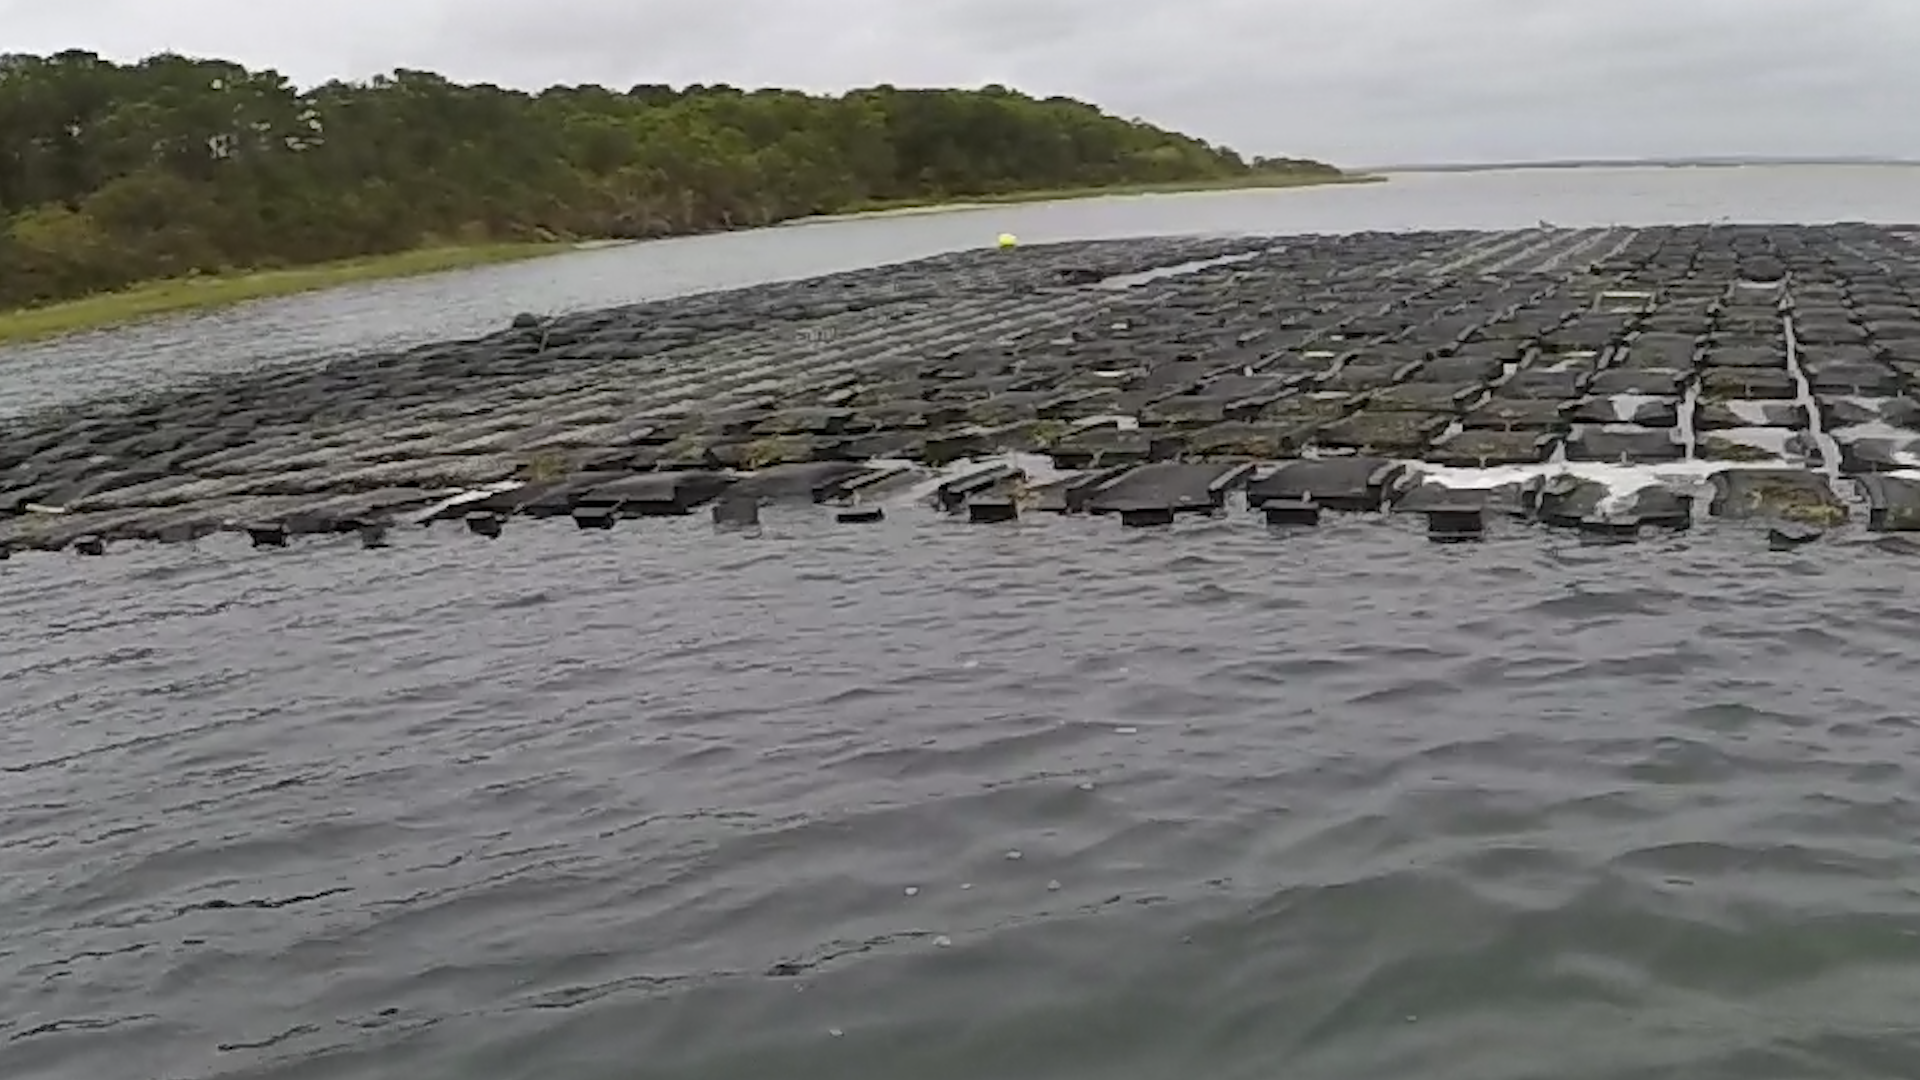bag: (1244, 448, 1404, 509)
